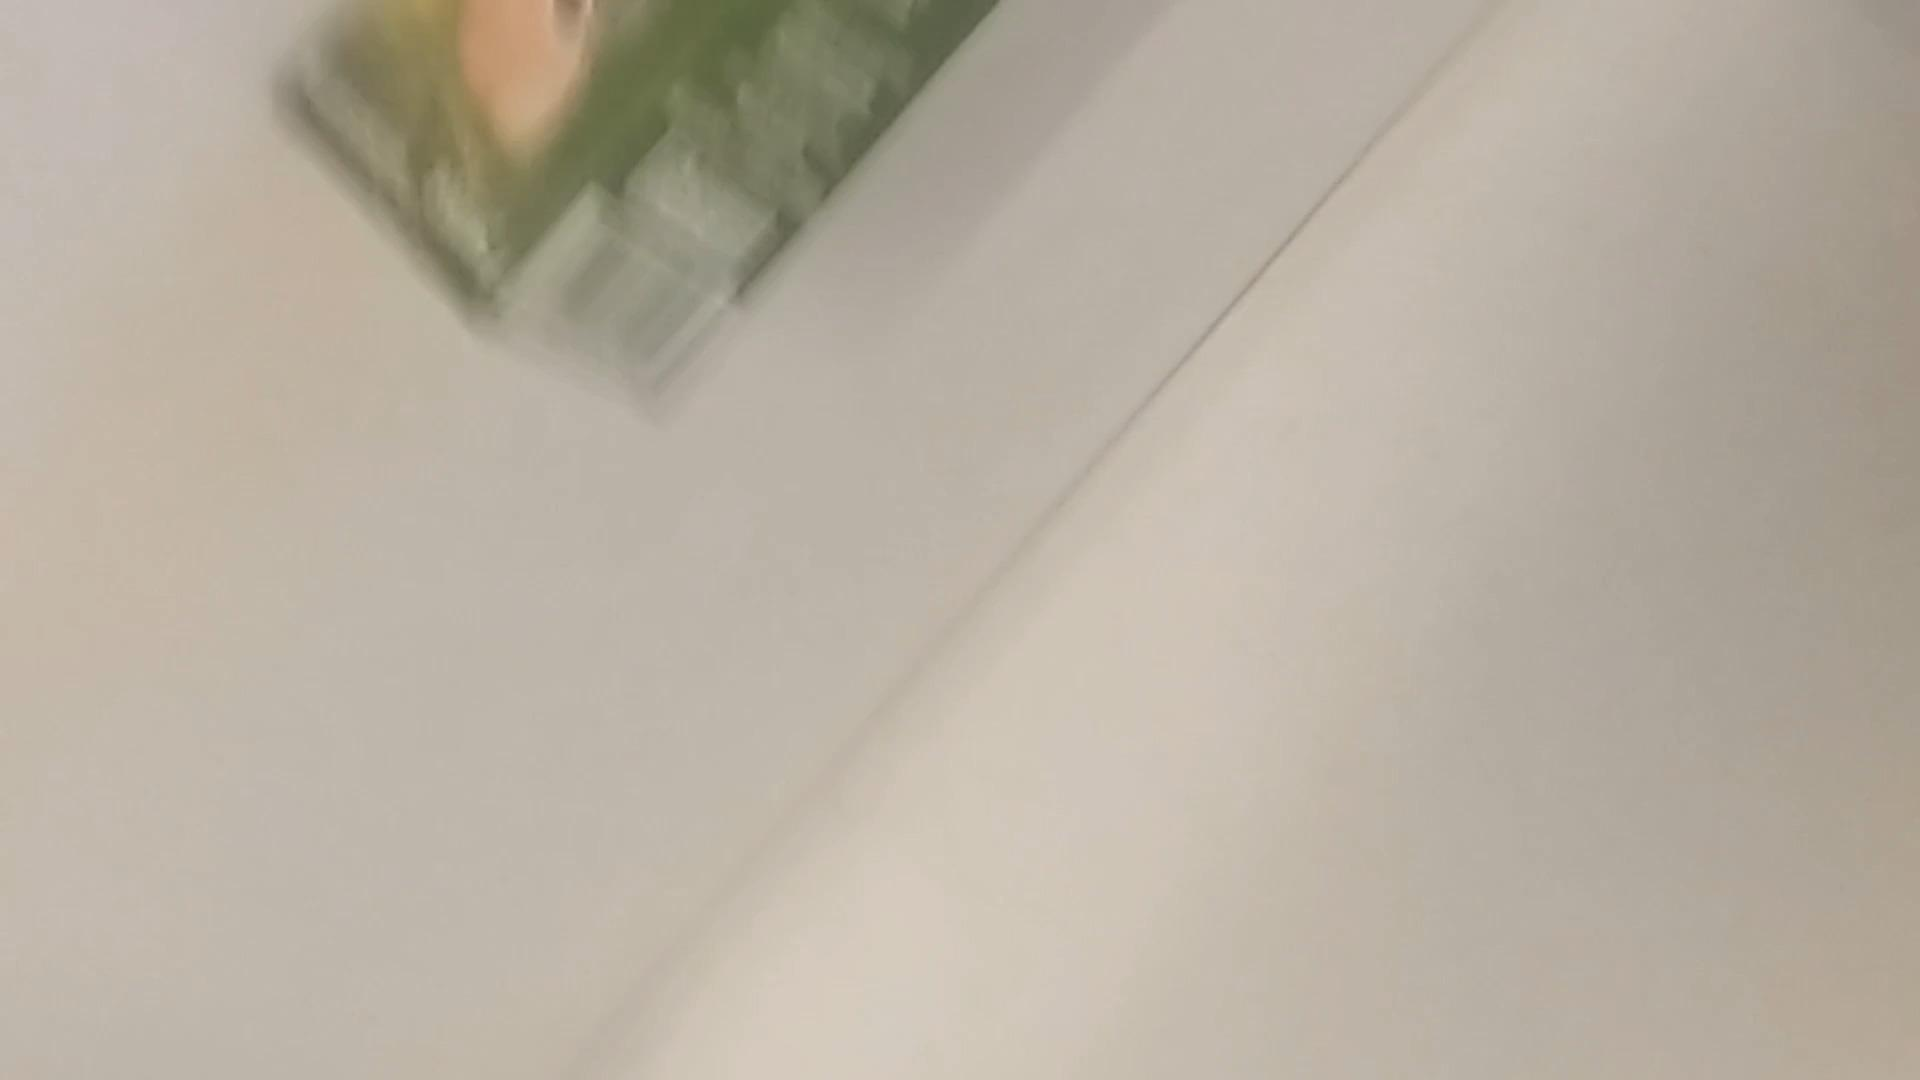coco: (265, 0, 1005, 405)
